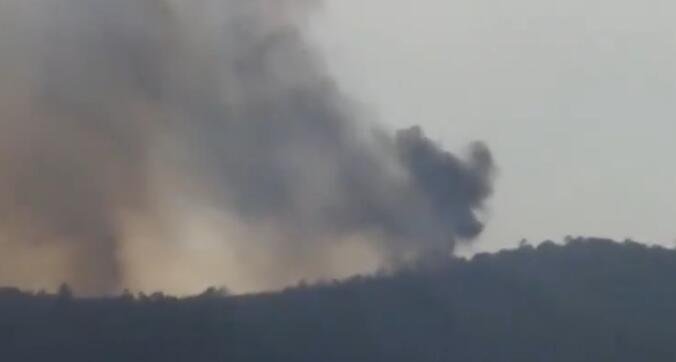yanwu: (2, 0, 494, 274)
